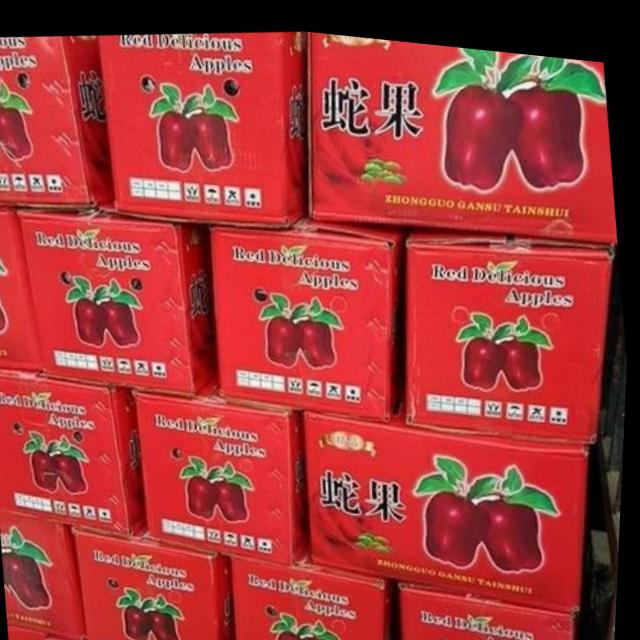box: (308, 25, 619, 230), (306, 386, 592, 600), (407, 221, 616, 432), (100, 25, 309, 224), (212, 208, 406, 412), (20, 200, 217, 388), (136, 373, 313, 558), (0, 368, 150, 532), (73, 523, 241, 640), (0, 33, 114, 205), (237, 547, 405, 640), (404, 571, 578, 640), (3, 507, 91, 637), (0, 206, 44, 369), (14, 623, 54, 640)
